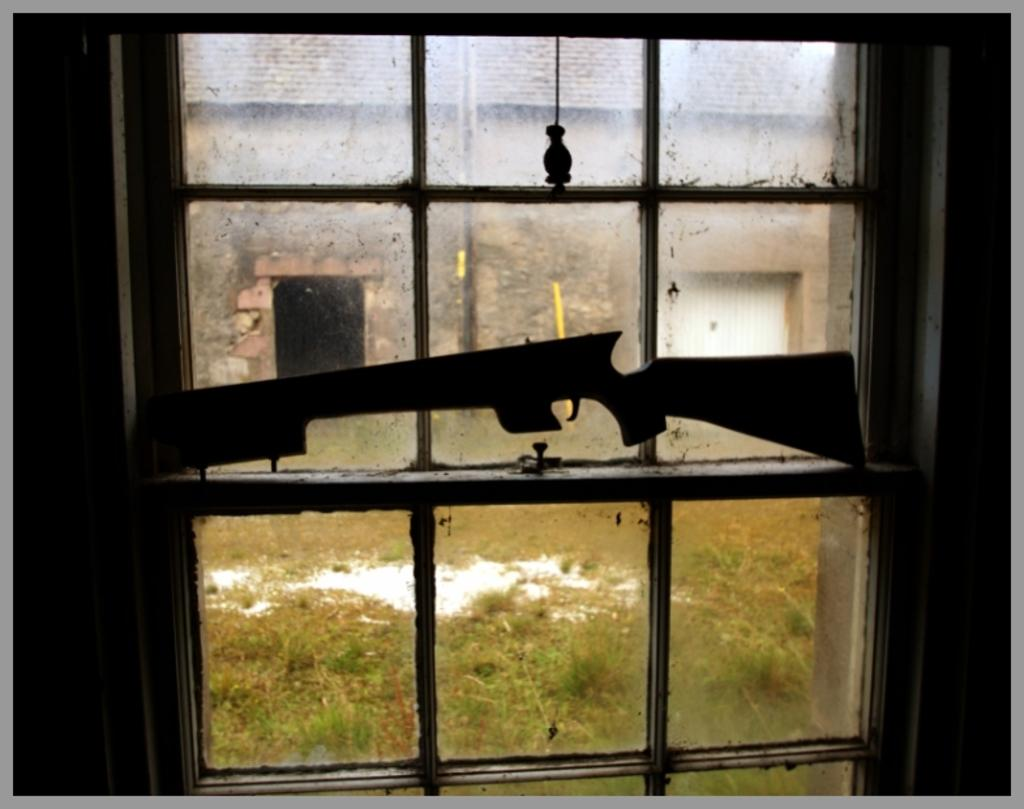Rifle: (127, 330, 861, 458)
